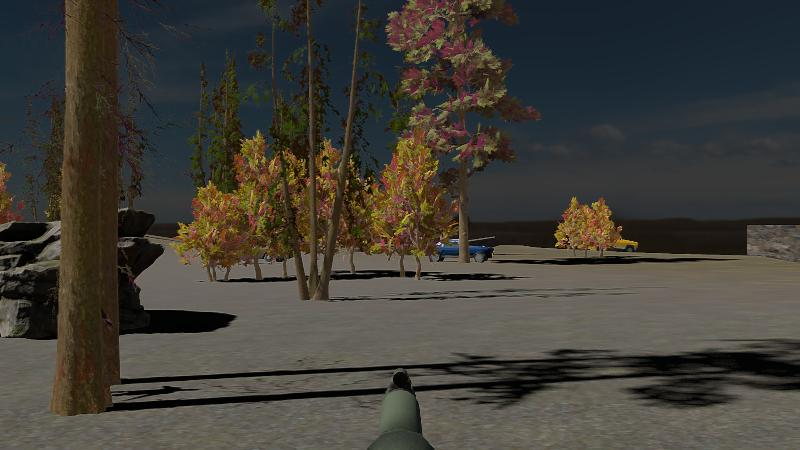car: (428, 235, 496, 264), (427, 235, 496, 263)
